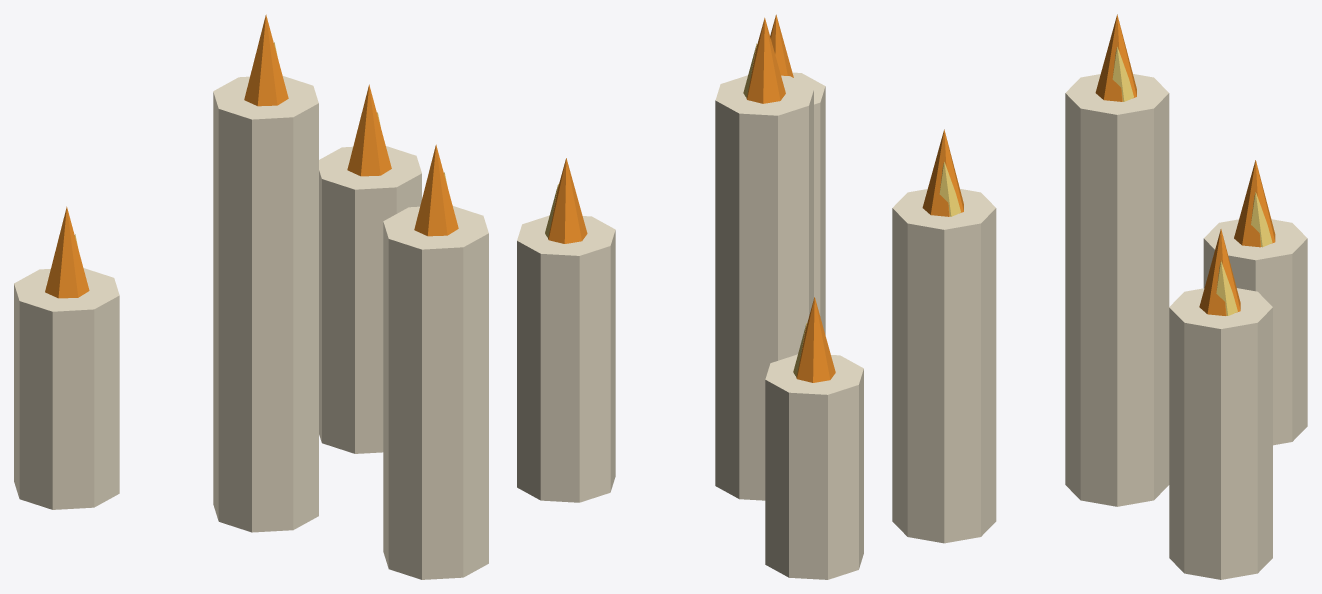
The model's file is Prop_Candles.fbx.
3 views of the same model, side by side, from view 1: azimuth 30°, elevation 25°; view 2: azimuth 150°, elevation 25°; view 3: azimuth 270°, elevation 25° (orthographic). The views are drawn at different scales.
Visible parts, largest first — view 1: Prop_Candles.001; view 2: Prop_Candles.001; view 3: Prop_Candles.001.
Part boxes in pixels (x1=…): Prop_Candles.001: x1=14, y1=14, x2=488, y2=579; Prop_Candles.001: x1=517, y1=14, x2=863, y2=579; Prop_Candles.001: x1=892, y1=14, x2=1307, y2=579.
Size of the model in its own units: 0.24 by 0.3004 by 0.24.
